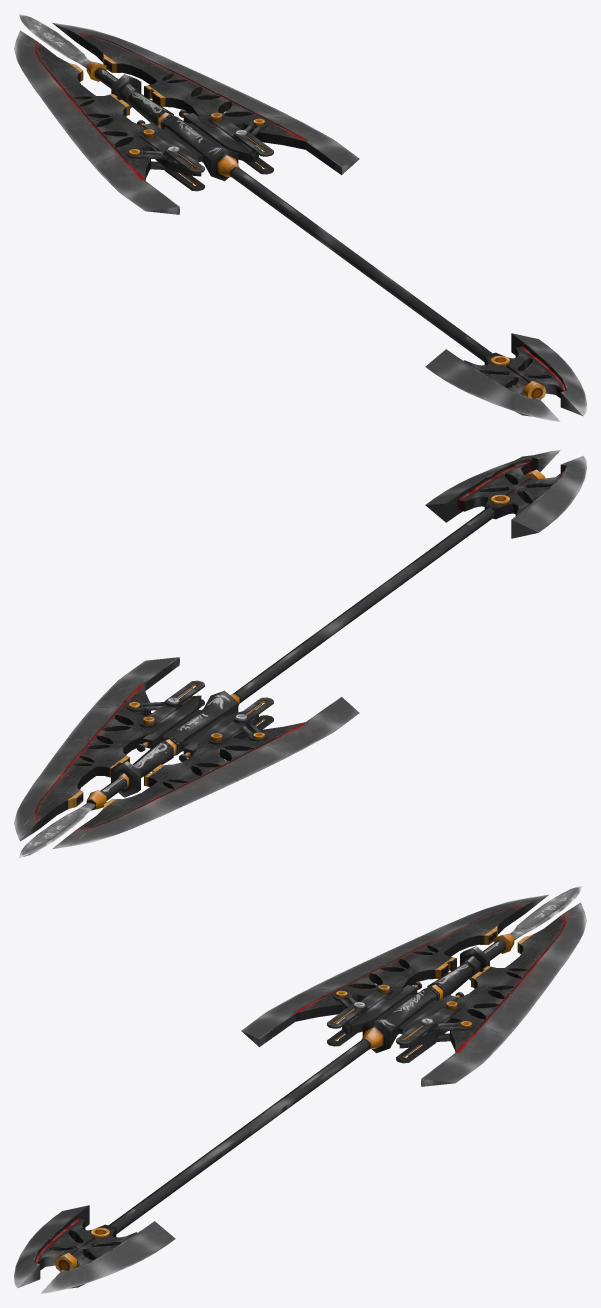
File: tadakatsu_weapon_tonbokiri.glb
The picture shows the model from 3 angles, top to bottom: view 1: azimuth 30°, elevation 25°; view 2: azimuth 150°, elevation 25°; view 3: azimuth 330°, elevation 25°; orthographic projection.
Bounding box in the file's own units: 0.6262 × 0.0953 × 2.79.
Materials: 1 (1 with a texture image).
